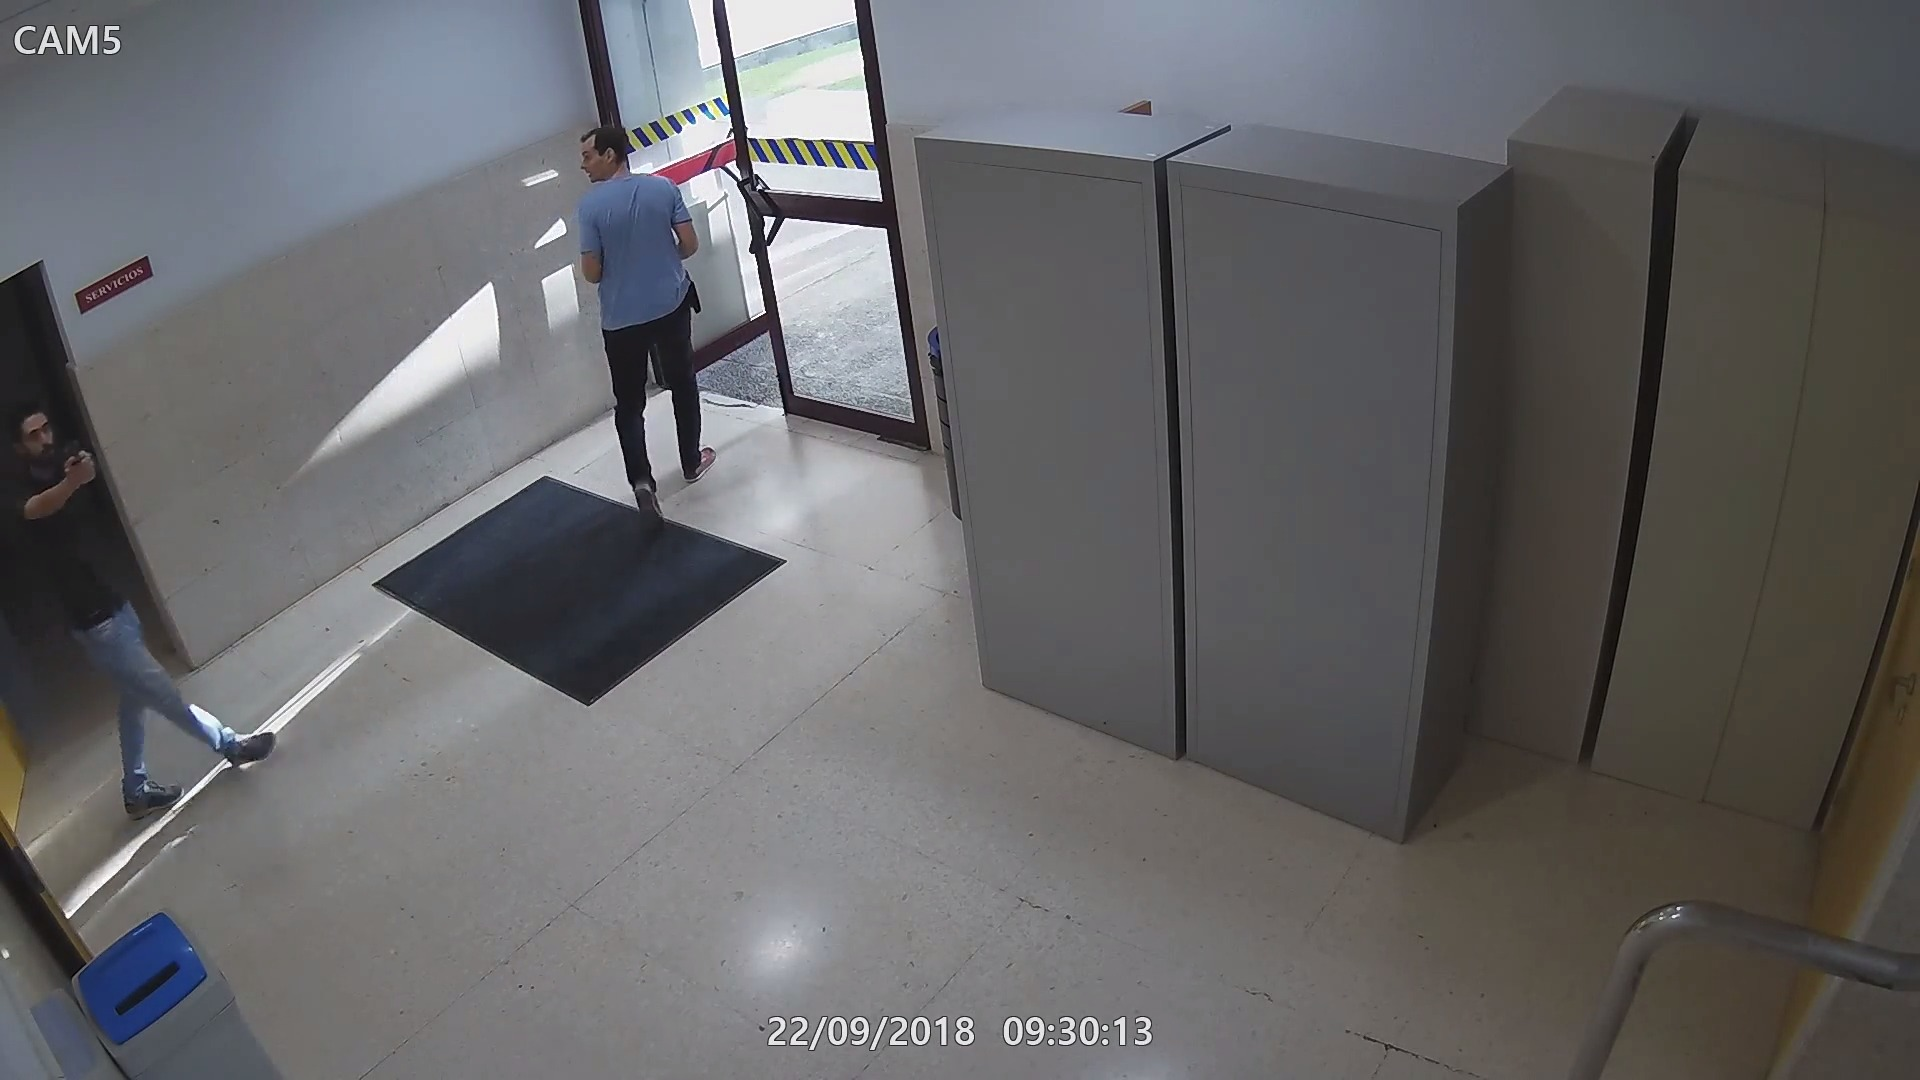Handgun: (63, 436, 88, 483)
